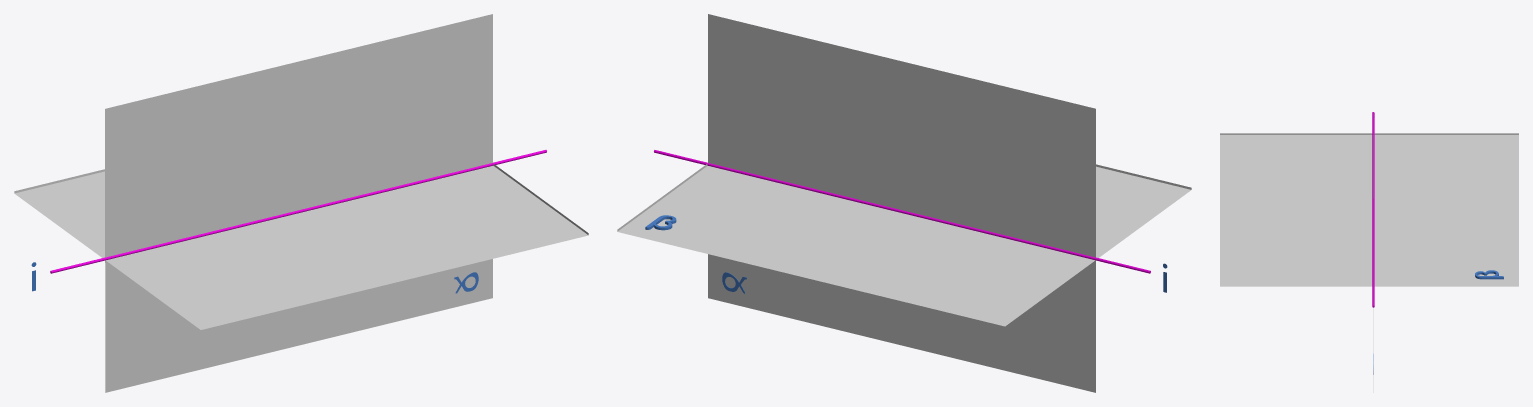
File: ob2.2_secantes.glb
The picture shows the model from 3 angles, left to right: view 1: azimuth 30°, elevation 25°; view 2: azimuth 150°, elevation 25°; view 3: azimuth 270°, elevation 25°; orthographic projection. The views are drawn at different scales.
Visible parts, largest first — view 1: plano_Box, plano0_Box, reta_i0_Cylinder; view 2: plano_Box, plano0_Box, reta_i0_Cylinder; view 3: plano0_Box, reta_i0_Cylinder.
Part boxes in pixels (<box>): plano_Box: <box>105,14,492,392</box>; plano0_Box: <box>14,164,588,329</box>; reta_i0_Cylinder: <box>50,150,546,273</box>; plano_Box: <box>708,14,1095,392</box>; plano0_Box: <box>617,164,1191,326</box>; reta_i0_Cylinder: <box>654,150,1150,273</box>; plano0_Box: <box>1220,133,1518,286</box>; reta_i0_Cylinder: <box>1372,112,1374,307</box>.
Size of the model in its own units: 2.38 by 1.26 by 1.5.
